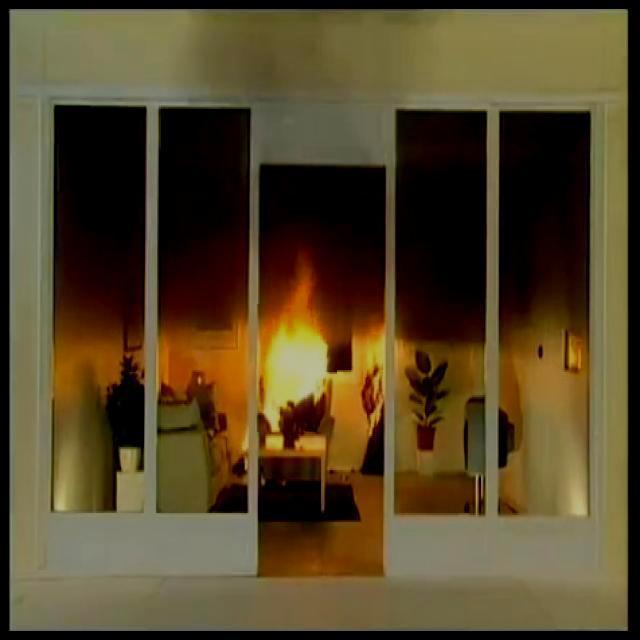fire: (184, 12, 444, 166)
smoke: (255, 236, 338, 432)
